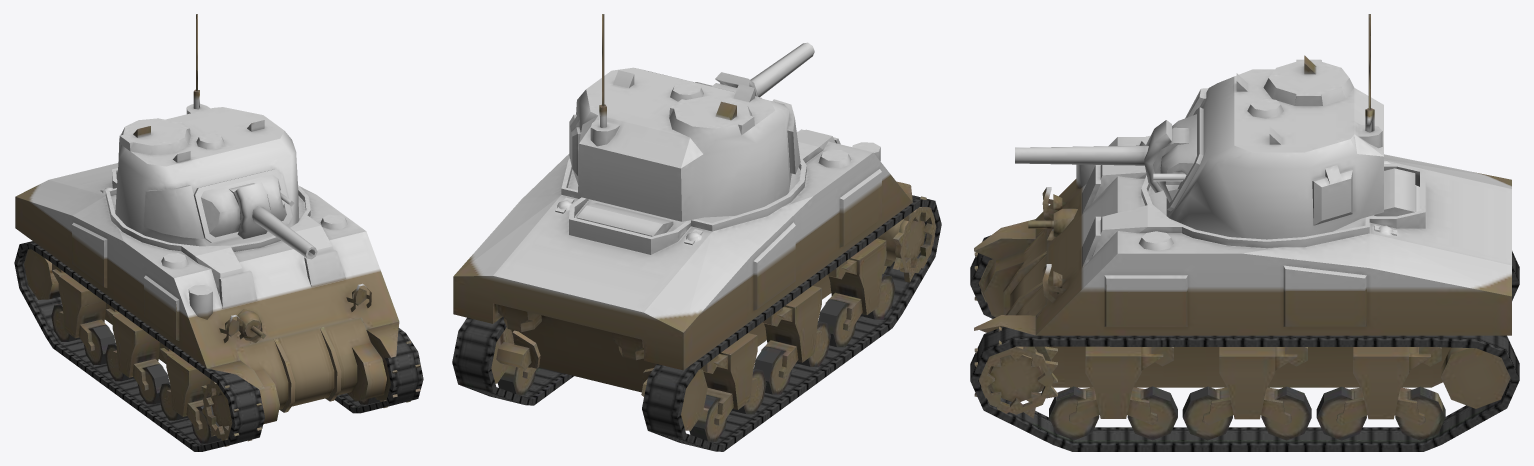
The model's file is realistic-by.b0221350601e.tank.glb.
3 views of the same model, side by side, from view 1: azimuth 30°, elevation 25°; view 2: azimuth 150°, elevation 25°; view 3: azimuth 270°, elevation 25° (orthographic). The views are drawn at different scales.
Parts seen in each view (by area): view 1: tank; view 2: tank; view 3: tank.
Boxes of the visible parts, x1,y1,x2,y2 form: tank: (14,14,423,451); tank: (452,14,941,451); tank: (970,14,1519,451).
Size of the model in its own units: 3.05 by 4.72 by 5.9.
Materials: 2 (2 with a texture image).
